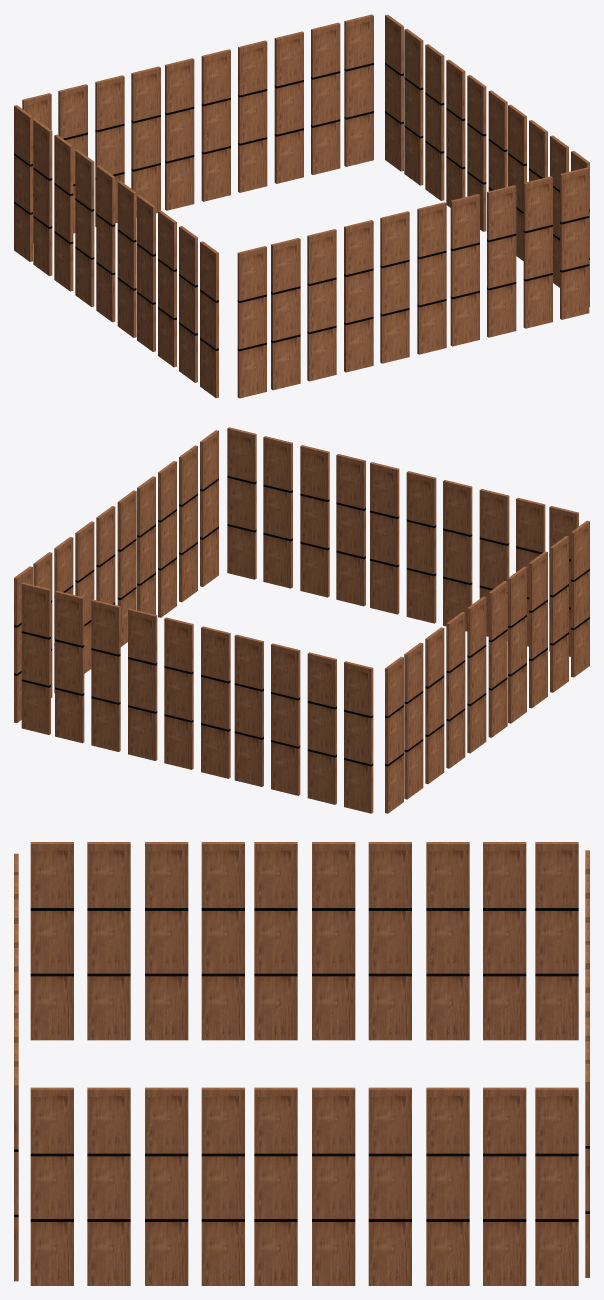
Rendered from גדר 2.fbx.
The picture shows the model from 3 angles, top to bottom: view 1: azimuth 30°, elevation 25°; view 2: azimuth 150°, elevation 25°; view 3: azimuth 270°, elevation 25°; orthographic projection. The views are drawn at different scales.
Parts seen in each view (by area): view 1: Cube.006, Cube.031, Cube.038, Cube.039, Cube.032, Cube.037, Cube.001, Cube.007, Cube.009, Cube.033, Cube.034, Cube.005 (+27 smaller); view 2: Cube.039, Cube.001, Cube.003, Cube.032, Cube.033, Cube.034, Cube.009, Cube, Cube.002, Cube.004, Cube.006, Cube.008 (+28 smaller); view 3: Cube.011, Cube.013, Cube.016, Cube.017, Cube.021, Cube.023, Cube.026, Cube.027, Cube.010, Cube.012, Cube.014, Cube.015 (+10 smaller).
Boxes of the visible parts, <box> form: Cube.006: <box>344,14,373,166</box>; Cube.031: <box>417,202,446,354</box>; Cube.038: <box>344,220,373,372</box>; Cube.039: <box>380,211,409,363</box>; Cube.032: <box>487,185,516,337</box>; Cube.037: <box>307,229,336,381</box>; Cube.001: <box>165,58,194,210</box>; Cube.007: <box>274,31,303,183</box>; Cube.009: <box>201,49,230,201</box>; Cube.033: <box>523,176,552,328</box>; Cube.034: <box>560,167,589,319</box>; Cube.005: <box>311,22,340,174</box>; Cube.039: <box>406,471,436,623</box>; Cube.001: <box>201,626,230,778</box>; Cube.003: <box>271,643,300,795</box>; Cube.032: <box>300,445,329,597</box>; Cube.033: <box>263,436,292,588</box>; Cube.034: <box>227,427,256,579</box>; Cube.009: <box>164,617,193,769</box>; Cube: <box>234,634,263,786</box>; Cube.002: <box>307,652,336,804</box>; Cube.004: <box>344,661,373,813</box>; Cube.006: <box>21,582,50,734</box>; Cube.008: <box>128,608,157,760</box>; Cube.011: <box>254,842,297,1040</box>; Cube.013: <box>87,842,130,1040</box>; Cube.016: <box>535,842,578,1040</box>; Cube.017: <box>426,842,469,1040</box>; Cube.021: <box>254,1087,297,1285</box>; Cube.023: <box>87,1087,130,1285</box>; Cube.026: <box>535,1087,578,1285</box>; Cube.027: <box>426,1087,469,1285</box>; Cube.010: <box>201,842,244,1040</box>; Cube.012: <box>145,842,188,1040</box>; Cube.014: <box>30,842,73,1040</box>; Cube.015: <box>483,842,526,1040</box>.
Size of the model in its own units: 2705 by 999 by 2660.
2 materials, 1 textured.
